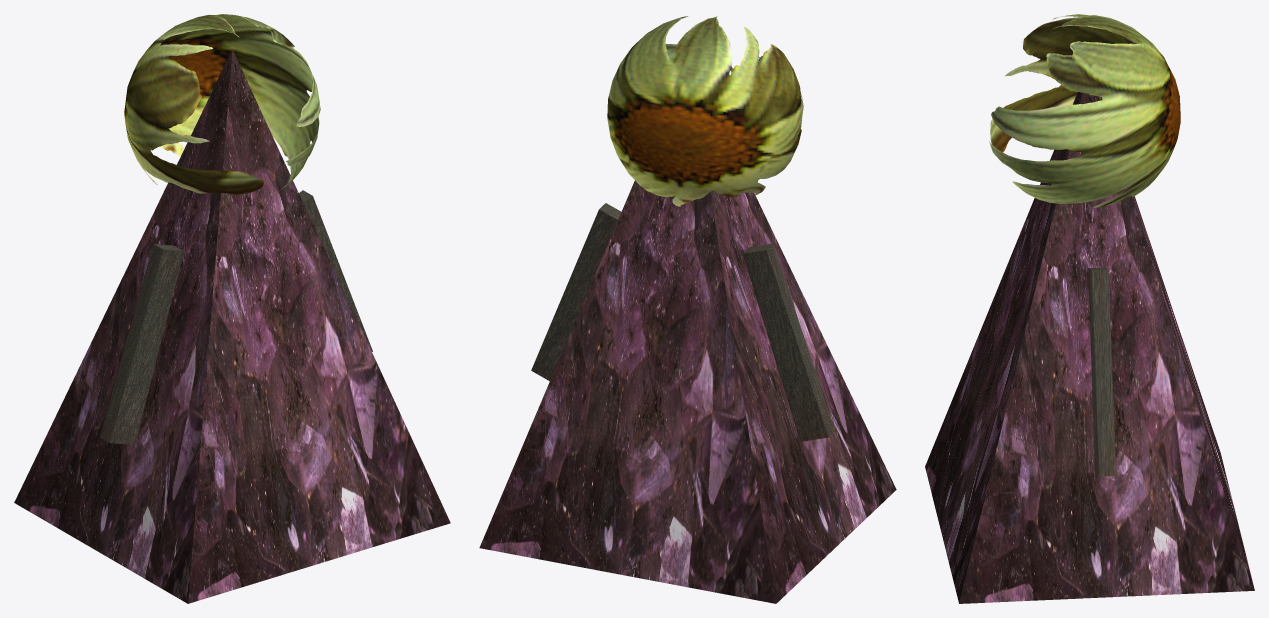
The model's file is Player1.fbx.
3 renders of one model, left to right at view 1: azimuth 30°, elevation 25°; view 2: azimuth 150°, elevation 25°; view 3: azimuth 270°, elevation 25°, orthographic.
Visible parts, largest first — view 1: Pyramid001, Sphere001, Box001, Box002; view 2: Pyramid001, Sphere001, Box001, Box002; view 3: Pyramid001, Sphere001, Box002.
Boxes of the visible parts, box(x1,y1,x2,y2) form: Pyramid001: box(14, 49, 450, 603); Sphere001: box(124, 14, 320, 194); Box001: box(100, 244, 184, 444); Box002: box(299, 190, 372, 351); Pyramid001: box(479, 180, 896, 603); Sphere001: box(607, 16, 803, 206); Box001: box(743, 243, 834, 441); Box002: box(531, 203, 621, 381); Pyramid001: box(925, 92, 1254, 603); Sphere001: box(989, 14, 1180, 207); Box002: box(1088, 267, 1116, 476).
Size of the model in its own units: 110 by 102 by 169.
